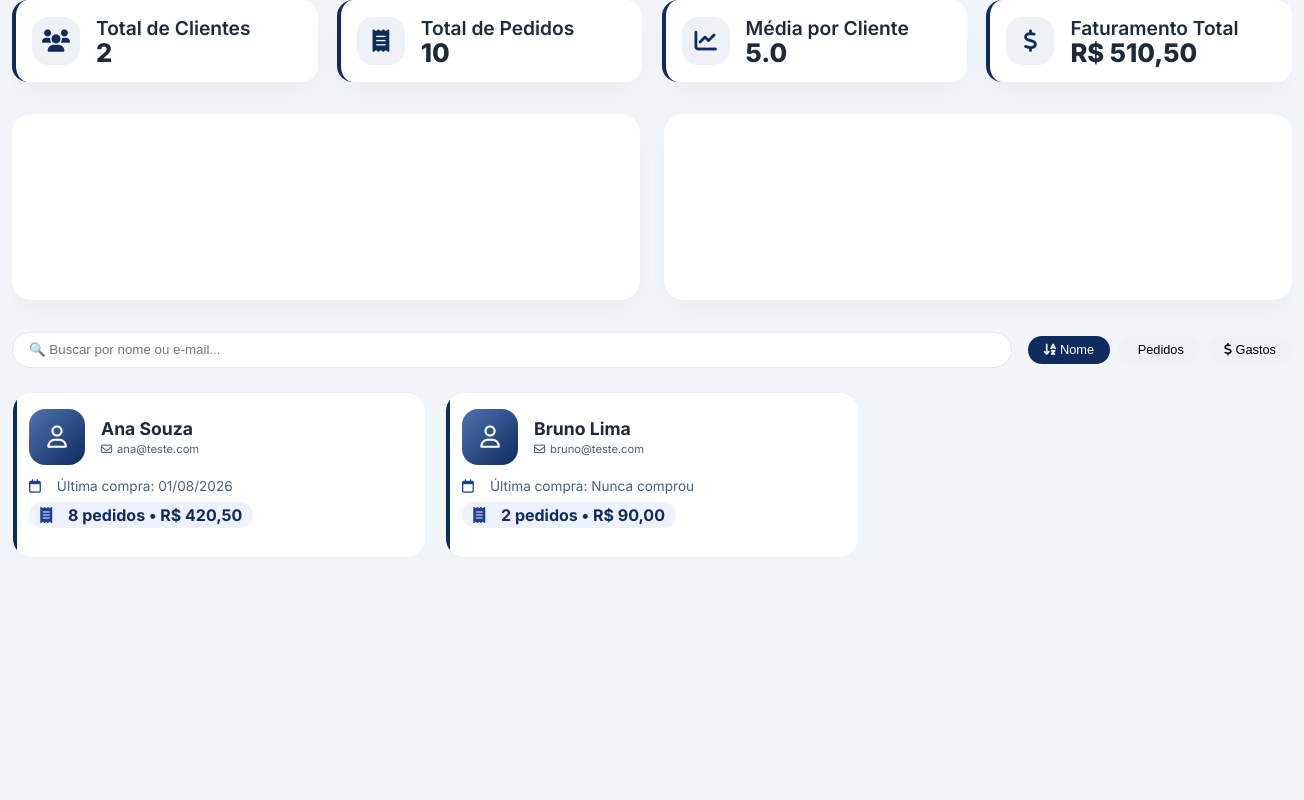
CustomersSection (painel admin — clientes) › busca por nome ou e-mail
Expected: the heading "Ana Souza" is shown, x1=101 y1=418 x2=199 y2=439
Step 1. Type "bruno@" into the field with placeholder "🔍 Buscar por nome ou e-mail..." → (512, 350), box x1=12 y1=332 x2=1012 y2=368
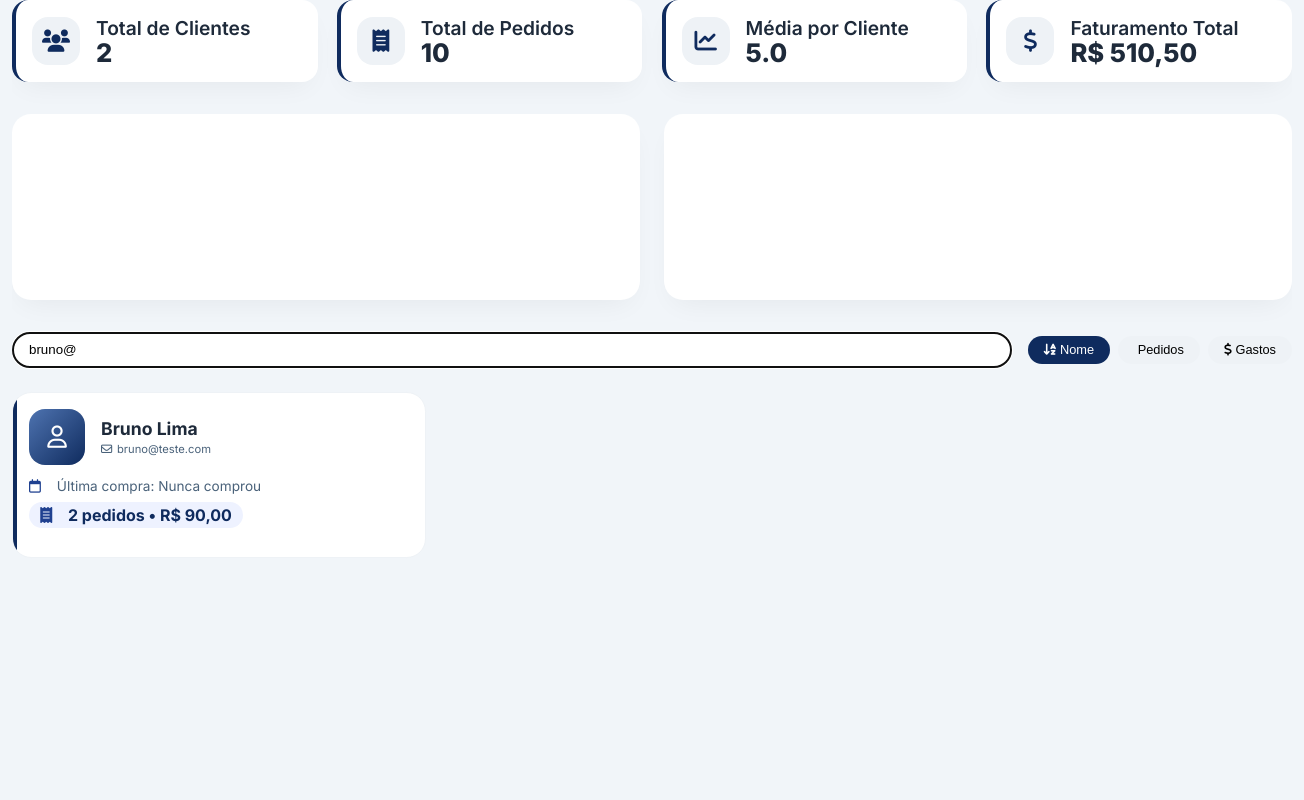
Expected: the heading "Bruno Lima" is shown, x1=101 y1=418 x2=211 y2=439
Result: the heading "Ana Souza" is gone
